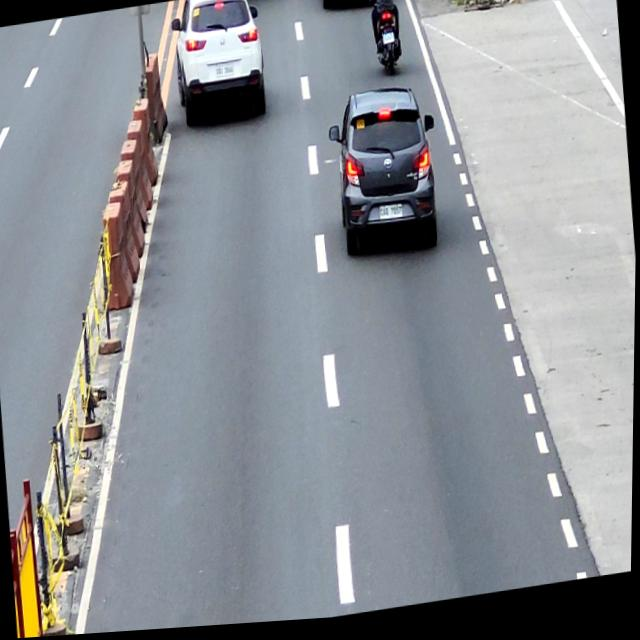Car: (323, 84, 445, 271), (167, 0, 269, 134)
License-Plate: (379, 207, 404, 226), (214, 67, 234, 81), (383, 37, 395, 48)
Motorcycle: (363, 0, 406, 82)
